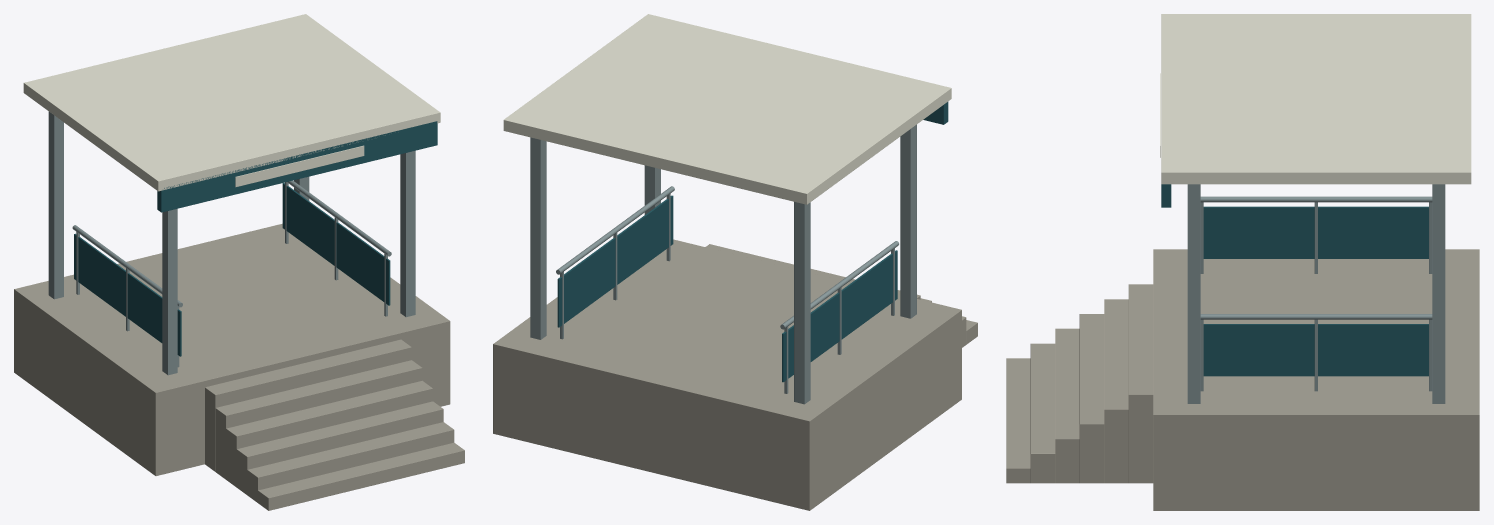
The model's file is source-edit.glb.
3 views of the same model, side by side, from view 1: azimuth 30°, elevation 25°; view 2: azimuth 150°, elevation 25°; view 3: azimuth 270°, elevation 25° (orthographic). The views are drawn at different scales.
Visible parts, largest first — view 1: Landing, Canopy_Roof, Entry_Fascia, Step_0, Step_1, Step_2, Step_3, Step_4, Infill.001, Step_5, Infill, Canopy_Column.002 (+5 smaller); view 2: Landing, Canopy_Roof, Infill.001, Infill, Canopy_Column.002, Canopy_Column, Canopy_Column.001, Handrail.001, Handrail, Step_0, Canopy_Column.003; view 3: Landing, Canopy_Roof, Infill, Infill.001, Step_0, Step_1, Step_2, Step_3, Step_4, Step_5, Canopy_Column, Canopy_Column.003 (+2 smaller).
Boxes of the visible parts, x1=… form: Landing: x1=14, y1=223, x2=450, y2=475; Canopy_Roof: x1=23, y1=14, x2=440, y2=191; Entry_Fascia: x1=157, y1=121, x2=437, y2=212; Step_0: x1=205, y1=339, x2=411, y2=471; Step_1: x1=215, y1=360, x2=422, y2=479; Step_2: x1=226, y1=380, x2=432, y2=487; Step_3: x1=236, y1=401, x2=443, y2=494; Step_4: x1=247, y1=422, x2=454, y2=502; Infill.001: x1=282, y1=183, x2=390, y2=305; Step_5: x1=258, y1=442, x2=464, y2=510; Infill: x1=74, y1=233, x2=181, y2=356; Canopy_Column.002: x1=48, y1=111, x2=63, y2=299; Landing: x1=493, y1=239, x2=961, y2=510; Canopy_Roof: x1=503, y1=14, x2=951, y2=204; Infill.001: x1=557, y1=195, x2=673, y2=327; Infill: x1=782, y1=250, x2=897, y2=382; Canopy_Column.002: x1=794, y1=202, x2=810, y2=404; Canopy_Column: x1=530, y1=137, x2=546, y2=339; Canopy_Column.001: x1=900, y1=124, x2=916, y2=318; Handrail.001: x1=556, y1=186, x2=674, y2=274; Handrail: x1=780, y1=241, x2=898, y2=329; Step_0: x1=705, y1=244, x2=920, y2=299; Canopy_Column.003: x1=644, y1=165, x2=660, y2=214; Landing: x1=1153, y1=249, x2=1479, y2=510; Canopy_Roof: x1=1161, y1=14, x2=1471, y2=184; Infill: x1=1203, y1=206, x2=1428, y2=258; Infill.001: x1=1203, y1=324, x2=1428, y2=376; Step_0: x1=1128, y1=284, x2=1153, y2=483; Step_1: x1=1104, y1=299, x2=1128, y2=483; Step_2: x1=1079, y1=314, x2=1104, y2=483; Step_3: x1=1055, y1=328, x2=1079, y2=483; Step_4: x1=1030, y1=343, x2=1055, y2=483; Step_5: x1=1006, y1=358, x2=1030, y2=483; Canopy_Column: x1=1432, y1=184, x2=1445, y2=403; Canopy_Column.003: x1=1187, y1=184, x2=1200, y2=403.
Size of the model in its own units: 4.8 by 4.53 by 5.8.
